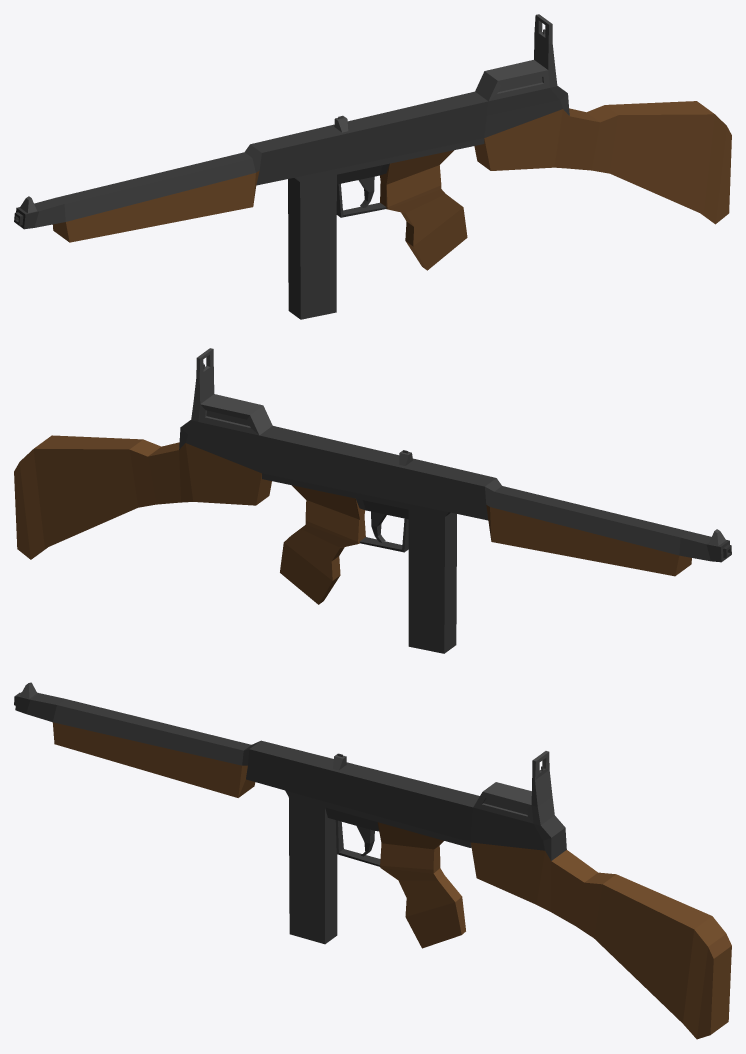
Rendered from tompson.fbx.
3 renders of one model, top to bottom at view 1: azimuth 30°, elevation 25°; view 2: azimuth 150°, elevation 25°; view 3: azimuth 330°, elevation 25°, orthographic.
Visible parts, largest first — view 1: Cube; view 2: Cube; view 3: Cube.
Boxes of the visible parts, x1=… form: Cube: x1=14, y1=14, x2=731, y2=319; Cube: x1=14, y1=348, x2=731, y2=653; Cube: x1=14, y1=682, x2=731, y2=1039.
Bounding box in the file's own units: 425 × 137 × 20.58.
